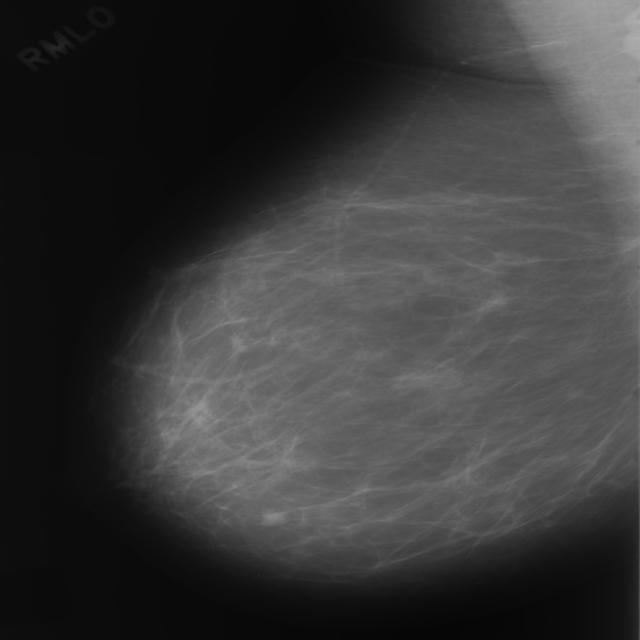tumour: (258, 508, 286, 525)
